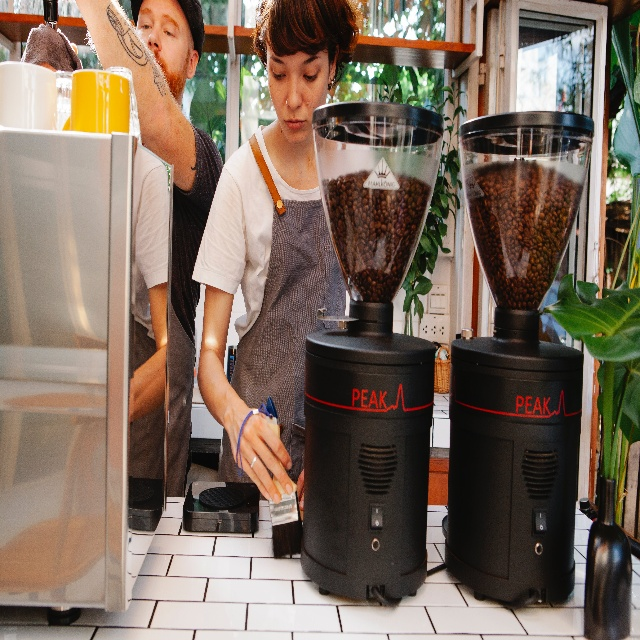Sin_guantes: (227, 402, 292, 504)
